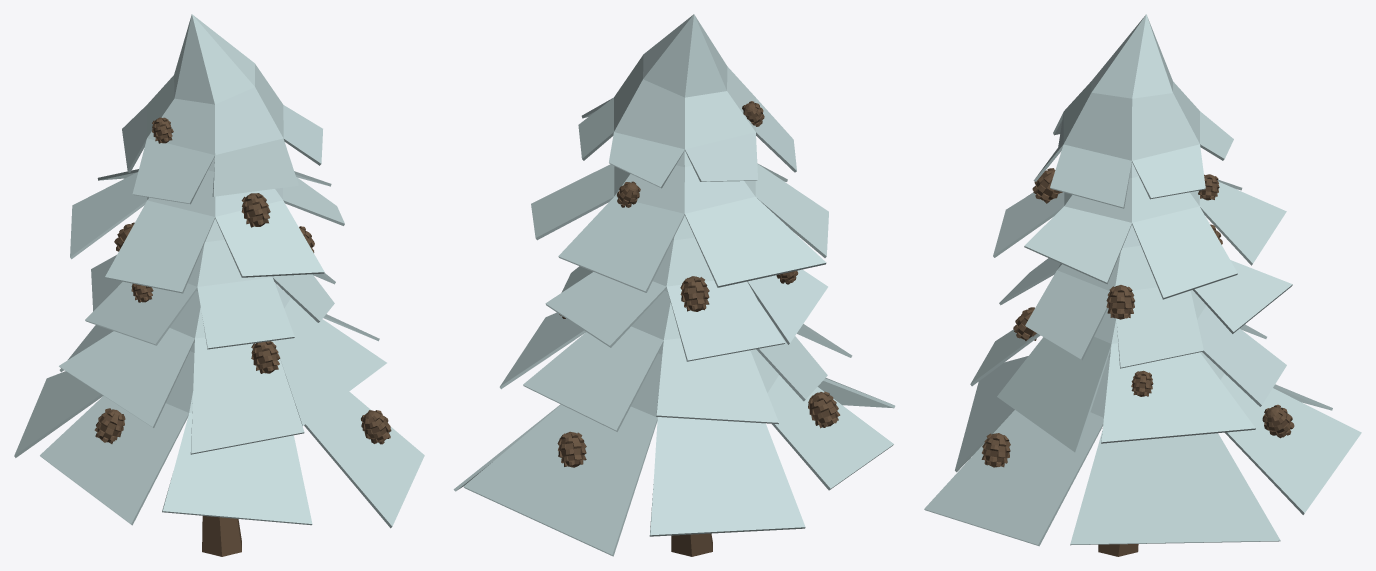
Rendered from Arbol Exterior 1.fbx.
3 views of the same model, side by side, from view 1: azimuth 30°, elevation 25°; view 2: azimuth 150°, elevation 25°; view 3: azimuth 270°, elevation 25° (orthographic). The views are drawn at different scales.
Parts seen in each view (by area): view 1: Hojas_5, Hojas_4, hojas_1, Hojas_2, Hojas_3, Tronco_Dif_1, pSphere33, pSphere29, pSphere32, pSphere24; view 2: Hojas_5, Hojas_2, Hojas_4, hojas_1, Hojas_3, pSphere33, Tronco_Dif_1, pSphere31, pSphere27; view 3: Hojas_5, Hojas_4, hojas_1, Hojas_2, Hojas_3, pSphere26, pSphere32, pSphere31, pSphere29.
Boxes of the visible parts, x1,y1,x2,y2 form: Hojas_5: (14,341,424,528); Hojas_4: (59,283,386,454); hojas_1: (122,14,322,204); Hojas_2: (70,157,344,293); Hojas_3: (85,218,335,349); Tronco_Dif_1: (202,516,241,556); pSphere33: (94,408,125,443); pSphere29: (241,193,270,227); pSphere32: (361,410,391,444); pSphere24: (251,341,280,373); Hojas_5: (453,343,895,556); Hojas_2: (531,150,828,292); Hojas_4: (499,288,852,431); hojas_1: (578,14,796,188); Hojas_3: (545,215,827,361); pSphere33: (808,391,840,428); Tronco_Dif_1: (671,533,712,556); pSphere31: (557,431,586,467); pSphere27: (680,276,709,311); Hojas_5: (924,350,1361,546); Hojas_4: (970,290,1286,453); hojas_1: (1033,14,1233,208); Hojas_2: (993,162,1286,299); Hojas_3: (999,225,1292,368); pSphere26: (1106,285,1134,319); pSphere32: (981,433,1010,467); pSphere31: (1262,404,1294,438); pSphere29: (1032,168,1062,203).
Size of the model in its own units: 5.04 by 7.9 by 5.97.
